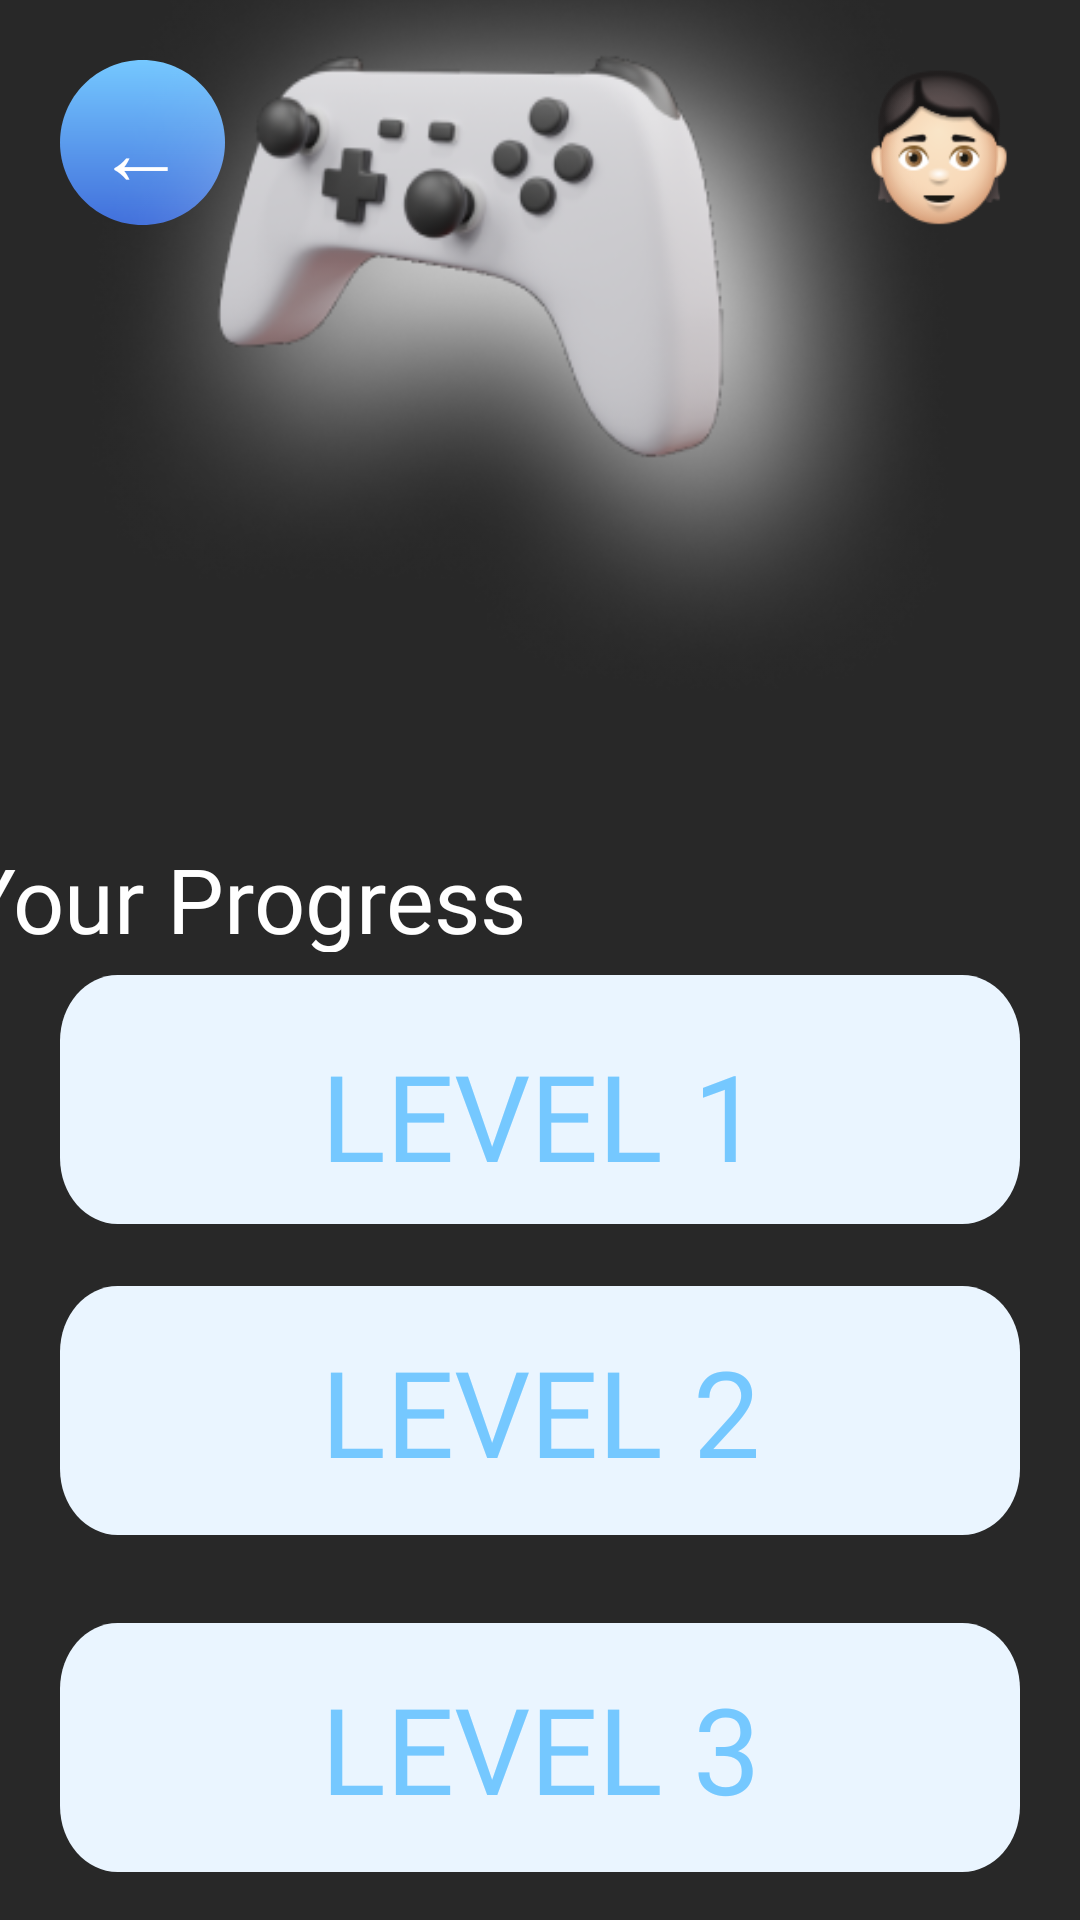

Icons on this 1080x1920 Android screen, each with its box as [x1=x1, y1=y1, x2=x2, y2=y2]:
back: [x1=60, y1=60, x2=225, y2=225]
son: [x1=871, y1=82, x2=1007, y2=225]
